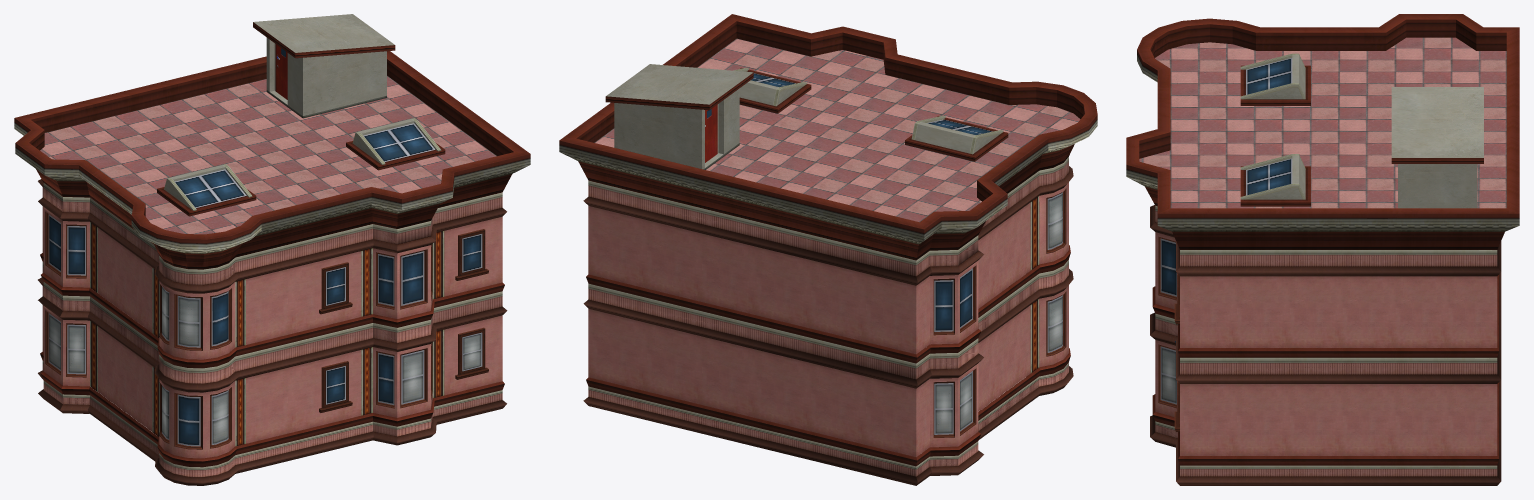
The model's file is HouseB.obj.
3 views of the same model, side by side, from view 1: azimuth 30°, elevation 25°; view 2: azimuth 150°, elevation 25°; view 3: azimuth 270°, elevation 25° (orthographic). The views are drawn at different scales.
Visible parts, largest first — view 1: HouseB; view 2: HouseB; view 3: HouseB.
Boxes of the visible parts, x1=… form: HouseB: x1=14, y1=14, x2=530, y2=485; HouseB: x1=559, y1=14, x2=1097, y2=485; HouseB: x1=1126, y1=14, x2=1519, y2=485.
Size of the model in its own units: 24.59 by 19.52 by 20.46.
